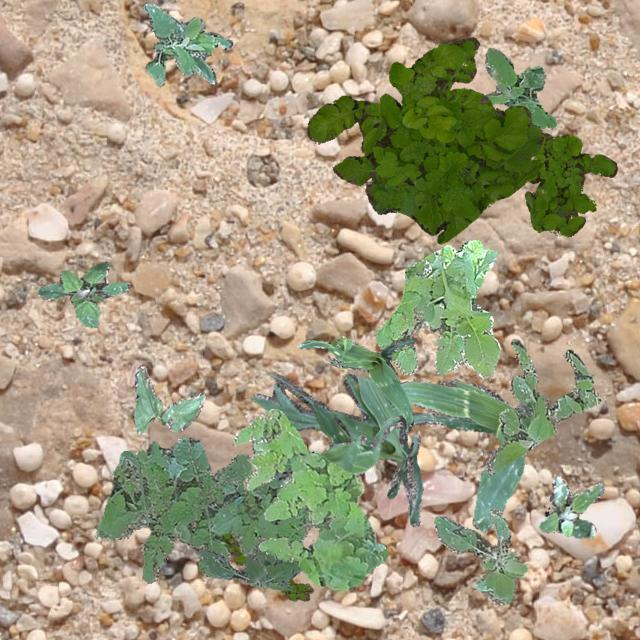crop: (250, 372, 422, 526), (381, 378, 523, 532), (270, 372, 350, 524), (296, 334, 416, 430), (274, 420, 392, 486), (132, 364, 204, 432)
weed: (306, 36, 542, 242), (96, 437, 327, 582), (232, 408, 388, 590), (374, 238, 500, 379), (484, 338, 598, 474), (524, 132, 616, 235), (432, 508, 526, 604), (142, 2, 232, 86), (218, 532, 312, 600), (36, 260, 128, 326), (484, 46, 554, 126), (198, 536, 300, 590), (538, 476, 604, 538)
